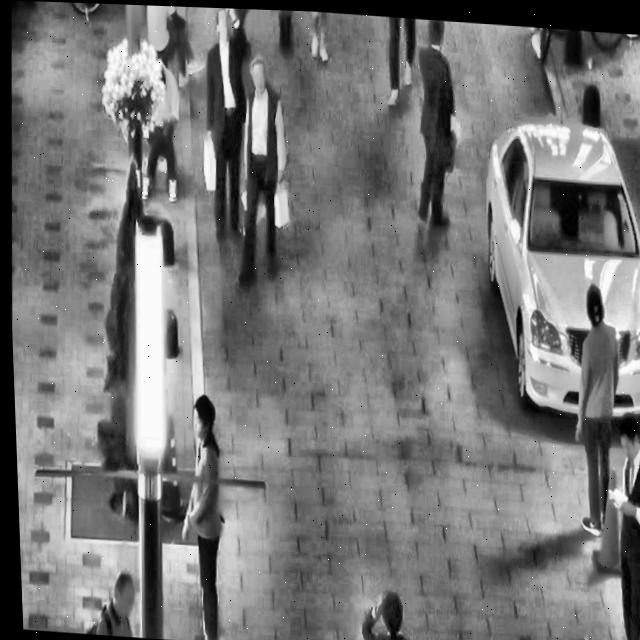light_vehicle: (467, 92, 640, 423)
